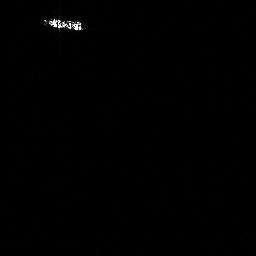ship: (40, 14, 88, 35)
